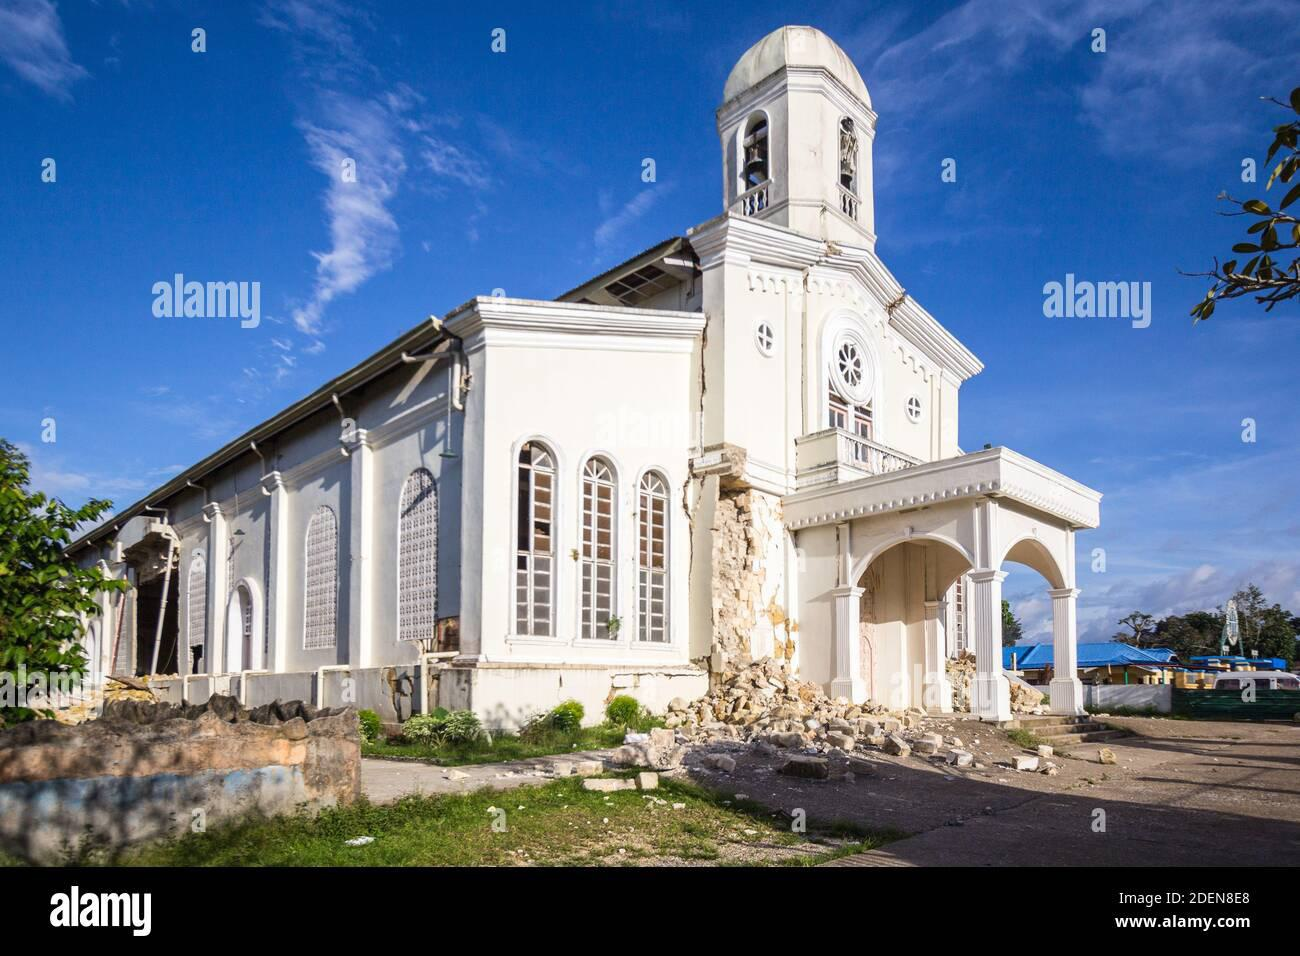crack: (677, 436, 719, 550), (668, 221, 715, 306), (790, 233, 847, 290), (690, 310, 724, 403), (871, 264, 917, 330)
